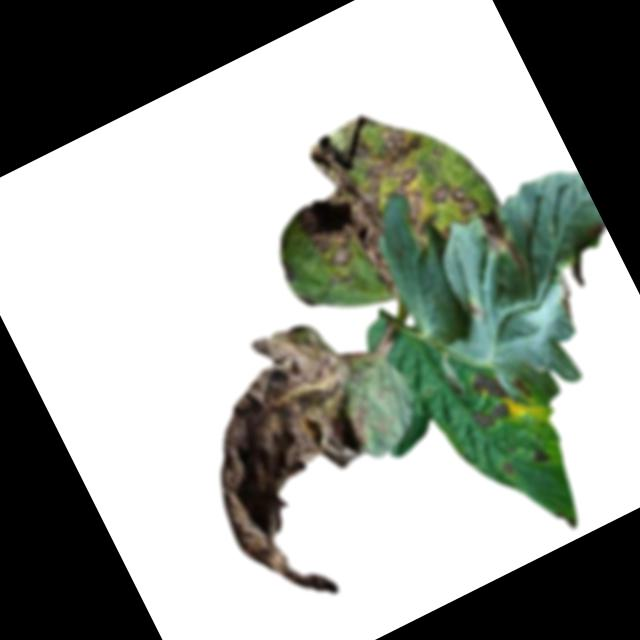Early_blight: (156, 309, 440, 629), (266, 79, 511, 321), (472, 206, 532, 286), (546, 267, 588, 324), (465, 363, 510, 409), (469, 396, 516, 436), (527, 445, 552, 468), (497, 459, 519, 484)
